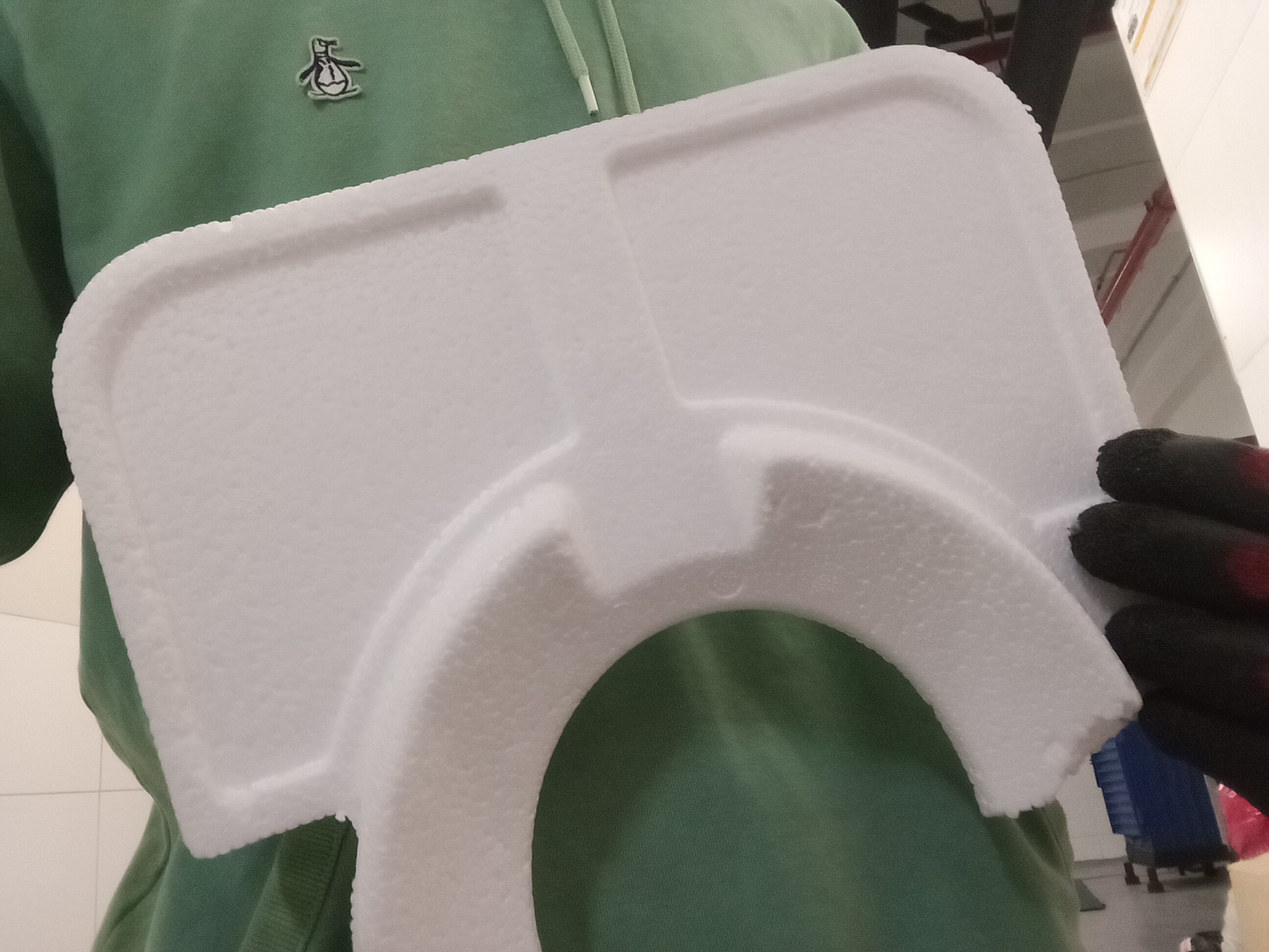Ordinario: (50, 44, 1142, 952)
